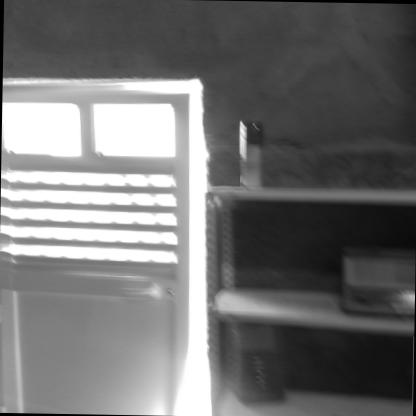closed: (0, 70, 212, 415)
